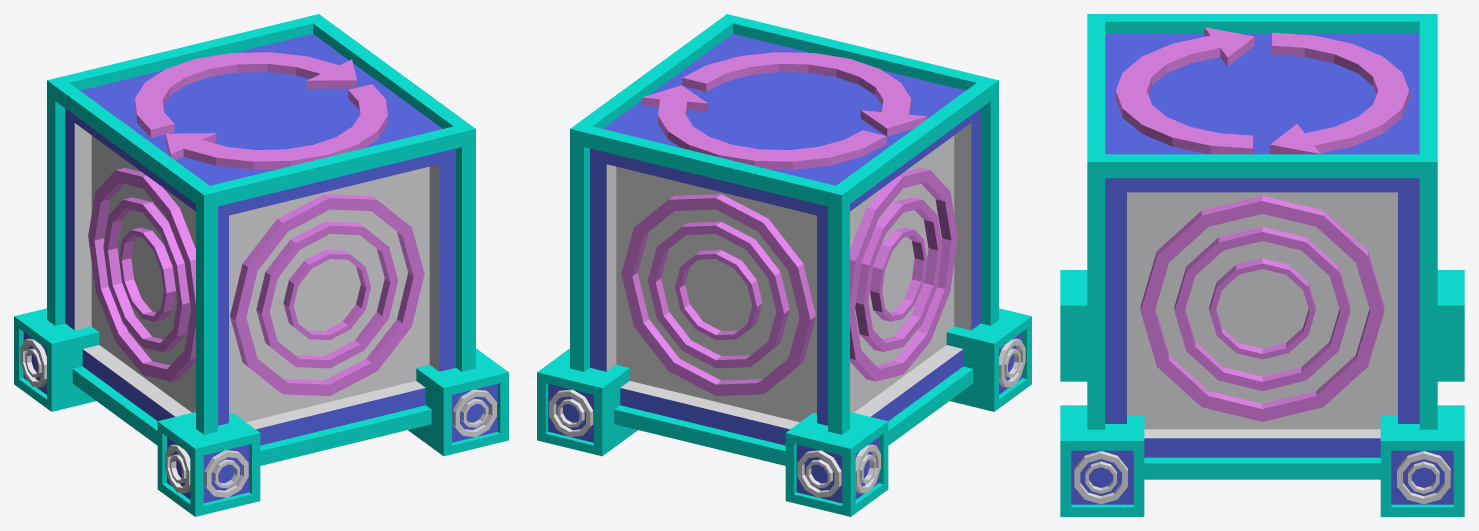
The model's file is confusion_block.fbx.
The picture shows the model from 3 angles, left to right: view 1: azimuth 30°, elevation 25°; view 2: azimuth 150°, elevation 25°; view 3: azimuth 270°, elevation 25°; orthographic projection. The views are drawn at different scales.
Visible parts, largest first — view 1: Mesh; view 2: Mesh; view 3: Mesh.
Part boxes in pixels (bbox=[...]): Mesh: bbox=[14, 14, 508, 516]; Mesh: bbox=[537, 14, 1031, 516]; Mesh: bbox=[1060, 14, 1464, 516].
Bounding box in the file's own units: 0.7928 × 0.7434 × 0.7928.
